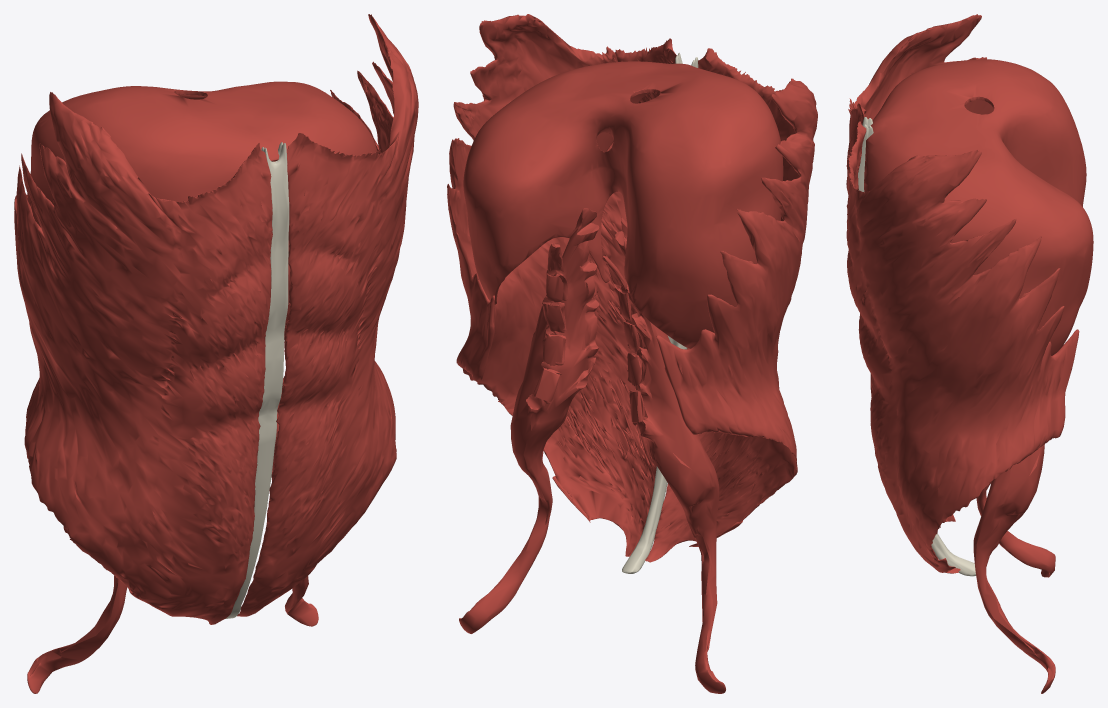
The model's file is muscular.abdomen.glb.
3 renders of one model, left to right at view 1: azimuth 30°, elevation 25°; view 2: azimuth 150°, elevation 25°; view 3: azimuth 270°, elevation 25°, orthographic. The views are drawn at different scales.
Parts seen in each view (by area): view 1: right_external_oblique, left_external_oblique, diaphragm, linea_alba, right_psoas_major, left_psoas_major; view 2: diaphragm, left_external_oblique, right_external_oblique, left_psoas_major, right_psoas_major, lateral_lumbar_intertransversarius, linea_alba, medial_lumbar_intertransversarius; view 3: left_external_oblique, diaphragm, left_psoas_major, right_external_oblique, right_psoas_major, linea_alba.
Part boxes in pixels (x1=…): right_external_oblique: x1=14, y1=92, x2=272, y2=624; left_external_oblique: x1=237, y1=14, x2=418, y2=616; diaphragm: x1=27, y1=81, x2=376, y2=250; linea_alba: x1=225, y1=142, x2=289, y2=618; right_psoas_major: x1=27, y1=575, x2=127, y2=693; left_psoas_major: x1=272, y1=378, x2=318, y2=626; diaphragm: x1=463, y1=61, x2=783, y2=348; left_external_oblique: x1=447, y1=14, x2=676, y2=556; right_external_oblique: x1=645, y1=48, x2=817, y2=562; left_psoas_major: x1=459, y1=208, x2=599, y2=633; right_psoas_major: x1=615, y1=217, x2=725, y2=693; lateral_lumbar_intertransversarius: x1=533, y1=243, x2=642, y2=422; linea_alba: x1=622, y1=52, x2=698, y2=573; medial_lumbar_intertransversarius: x1=543, y1=274, x2=644, y2=425; left_external_oblique: x1=846, y1=121, x2=1079, y2=573; diaphragm: x1=864, y1=59, x2=1093, y2=355; left_psoas_major: x1=973, y1=444, x2=1055, y2=693; right_external_oblique: x1=846, y1=14, x2=986, y2=521; right_psoas_major: x1=976, y1=482, x2=1055, y2=577; linea_alba: x1=858, y1=117, x2=976, y2=576.
Bounding box in the file's own units: 0.2817 × 0.4764 × 0.1929.
